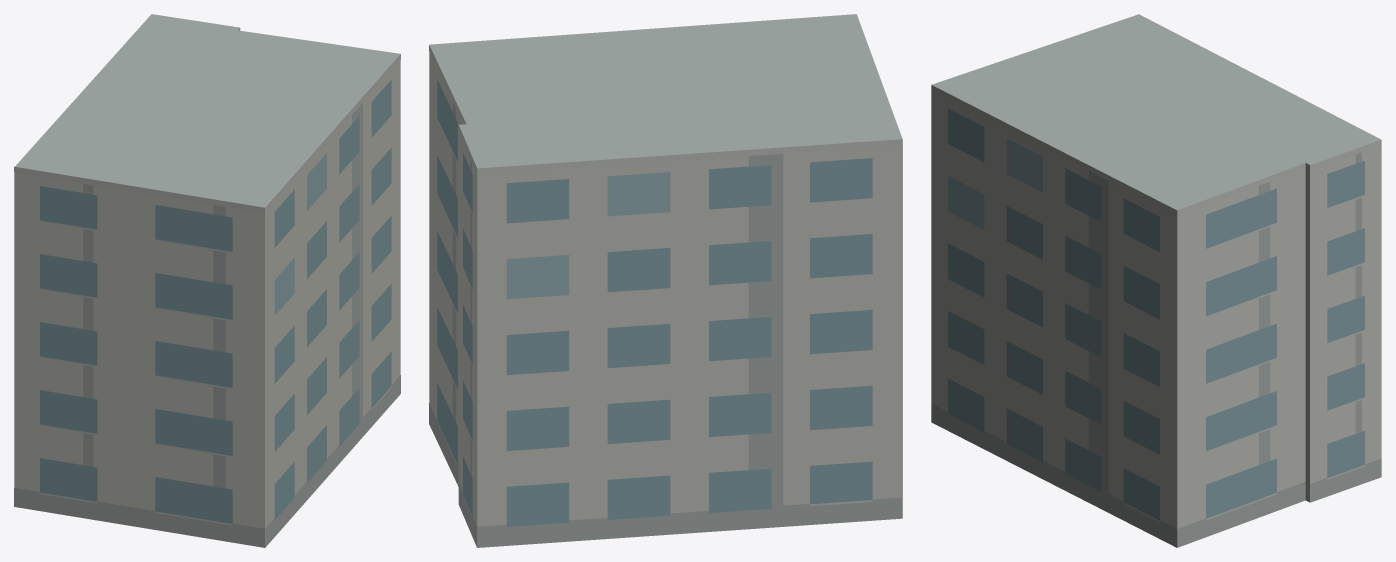
Rendered from survey-upis-32866285.glb.
The picture shows the model from 3 angles, left to right: view 1: azimuth 30°, elevation 25°; view 2: azimuth 150°, elevation 25°; view 3: azimuth 270°, elevation 25°; orthographic projection. The views are drawn at different scales.
Parts seen in each view (by area): view 1: survey-upis-32866285.tmp; view 2: survey-upis-32866285.tmp; view 3: survey-upis-32866285.tmp.
Part boxes in pixels (x1=…): survey-upis-32866285.tmp: x1=14, y1=14, x2=400, y2=547; survey-upis-32866285.tmp: x1=429, y1=14, x2=902, y2=547; survey-upis-32866285.tmp: x1=931, y1=14, x2=1381, y2=547.
Bounding box in the file's own units: 17.97 × 14.4 × 17.42.
